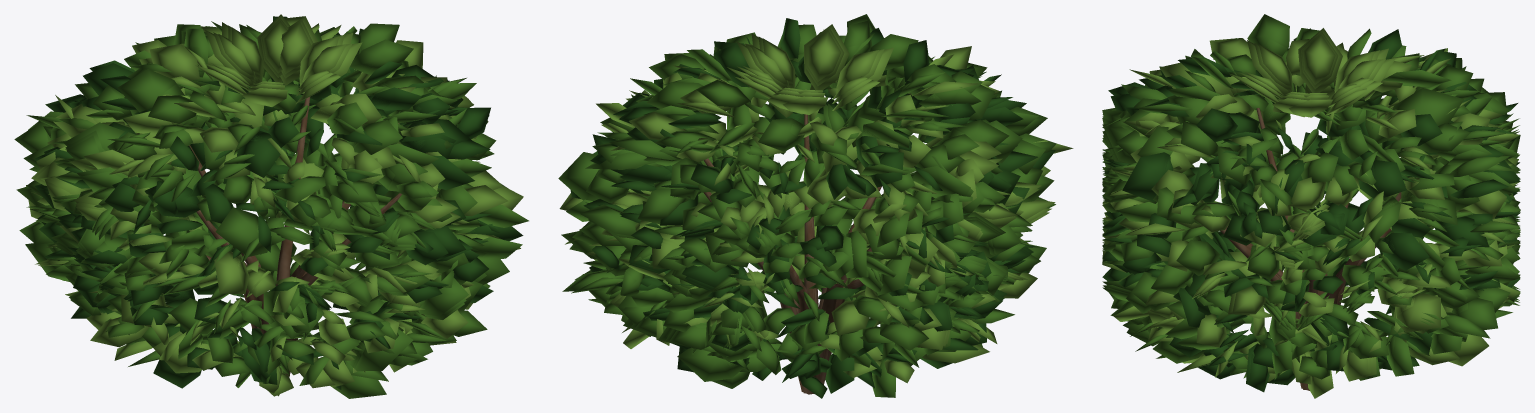
File: MV_Shrub_Round_Large.fbx
The picture shows the model from 3 angles, left to right: view 1: azimuth 30°, elevation 25°; view 2: azimuth 150°, elevation 25°; view 3: azimuth 270°, elevation 25°; orthographic projection. The views are drawn at different scales.
Parts seen in each view (by area): view 1: LOD0_Mesh, LOD1_Mesh, LOD2_Mesh; view 2: LOD0_Mesh, LOD2_Mesh, LOD1_Mesh; view 3: LOD0_Mesh, LOD1_Mesh, LOD2_Mesh.
Boxes of the visible parts, x1=… form: LOD0_Mesh: x1=26, y1=16, x2=520, y2=396; LOD1_Mesh: x1=14, y1=16, x2=528, y2=389; LOD2_Mesh: x1=16, y1=14, x2=523, y2=398; LOD0_Mesh: x1=566, y1=24, x2=1055, y2=398; LOD2_Mesh: x1=558, y1=14, x2=1073, y2=397; LOD1_Mesh: x1=559, y1=18, x2=1056, y2=393; LOD0_Mesh: x1=1102, y1=29, x2=1520, y2=390; LOD1_Mesh: x1=1102, y1=14, x2=1520, y2=398; LOD2_Mesh: x1=1102, y1=28, x2=1520, y2=392.
Bounding box in the file's own units: 1.64 × 1.4 × 1.64.
